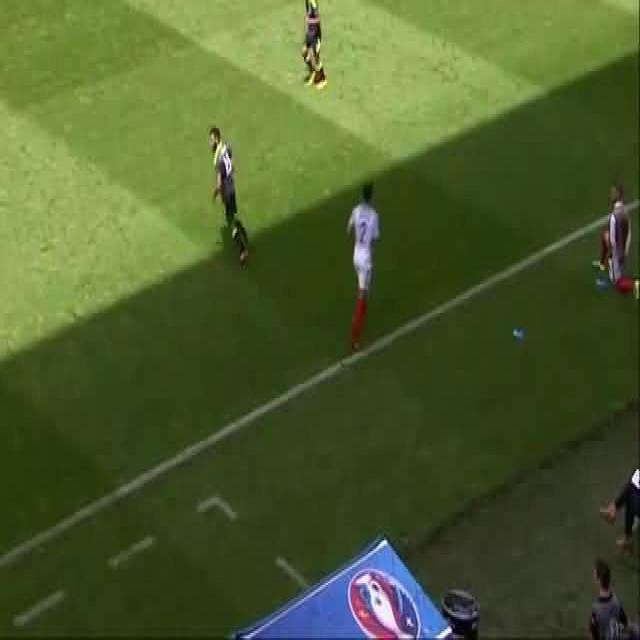player-white: (347, 186, 381, 354), (208, 126, 248, 266), (300, 0, 325, 89)
